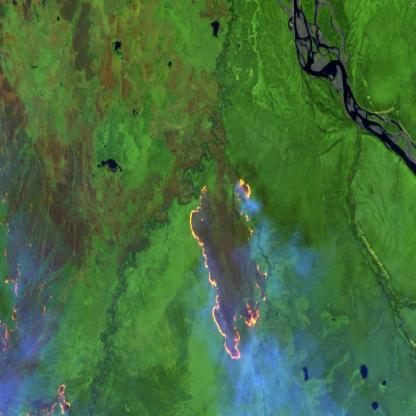fire: (187, 178, 271, 366), (0, 241, 75, 416)
